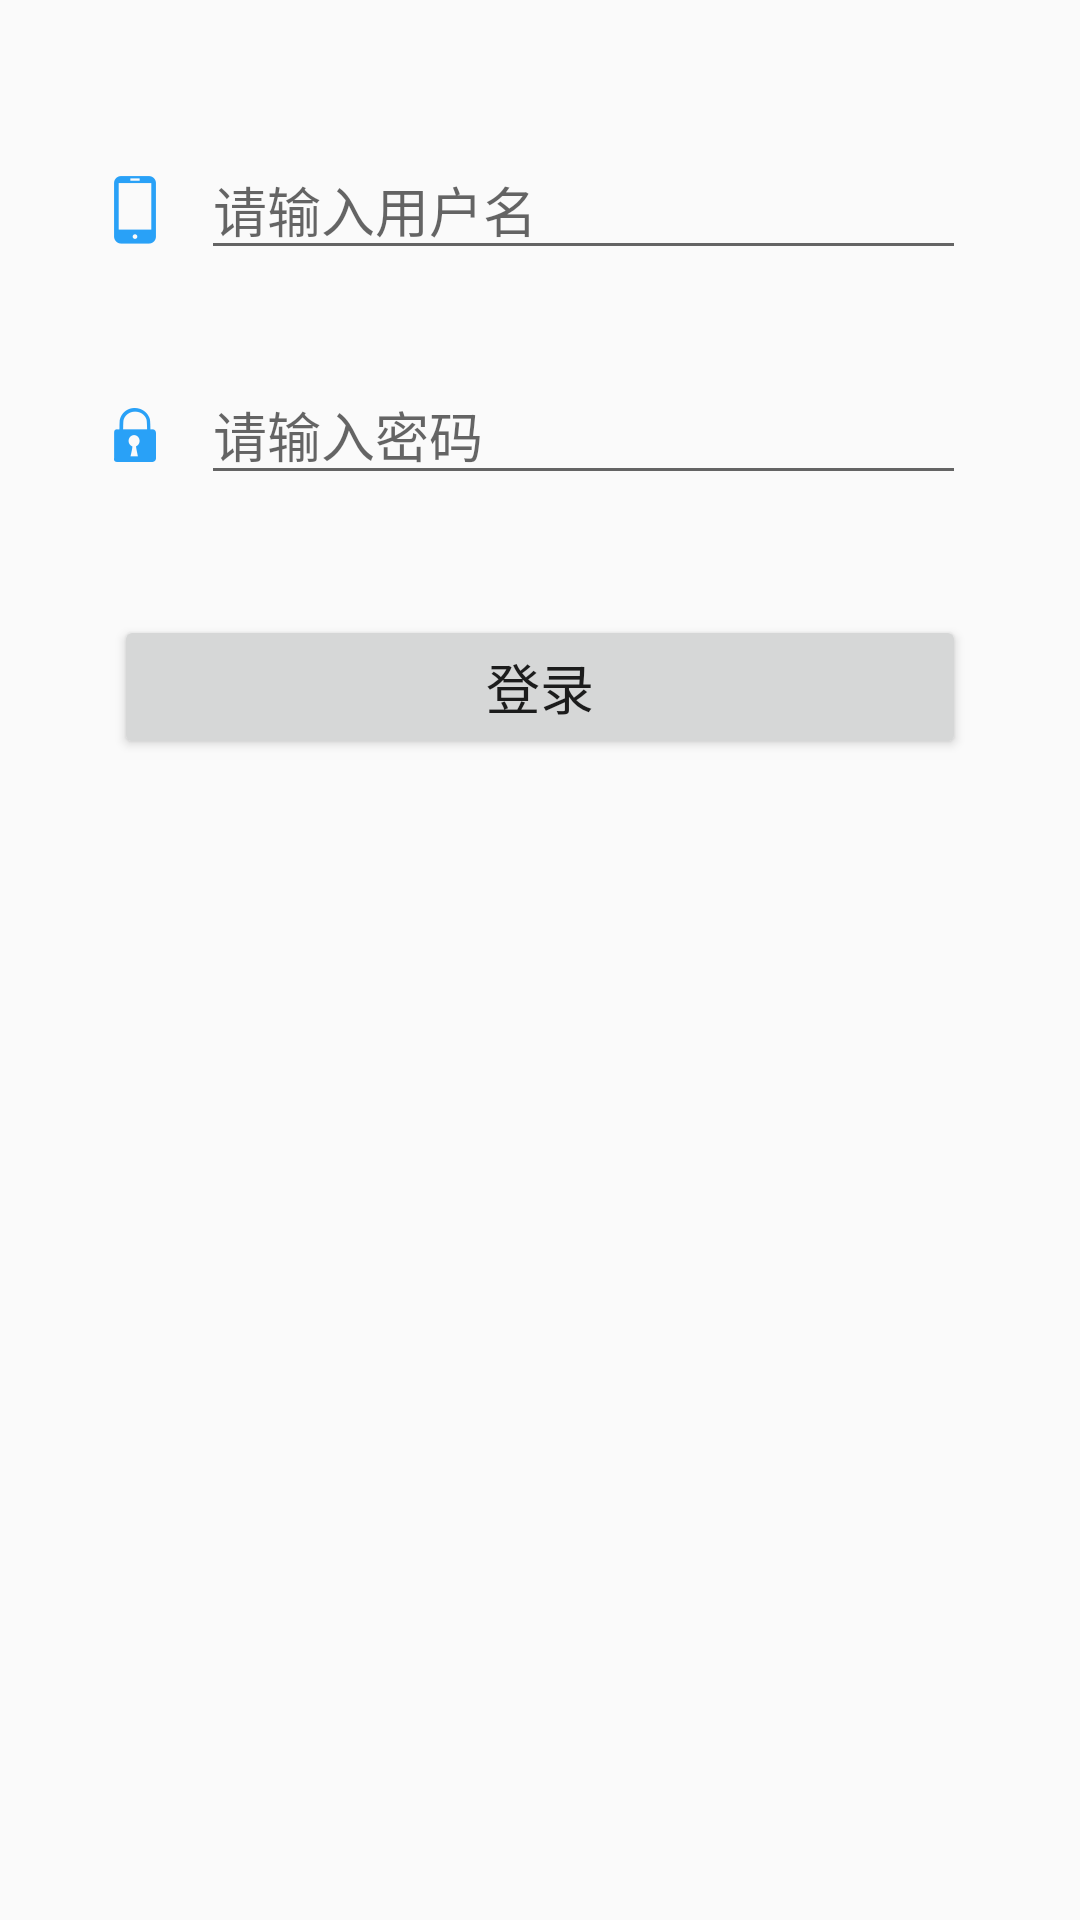

Icon bounding boxes for this 1080x1920 phone screenshot, format [x1,y1,x2,y2]:
password: [114,408,156,462]
phone: [114,176,156,244]
